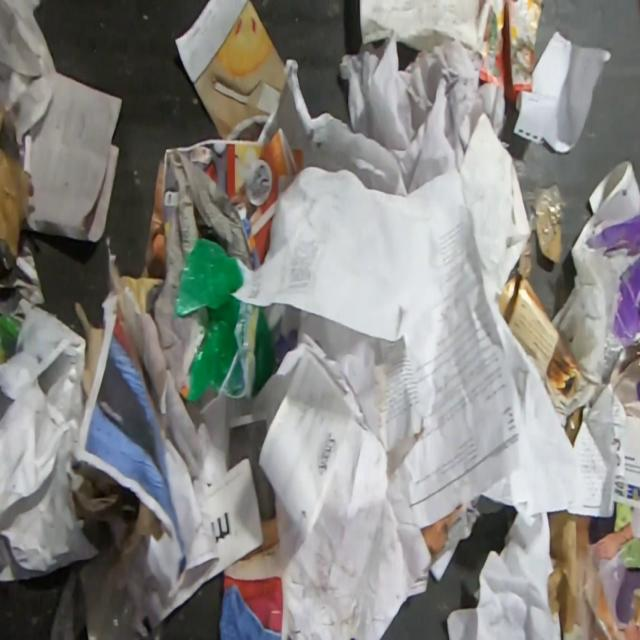cardboard: (498, 263, 582, 404), (546, 509, 592, 640), (0, 143, 31, 260), (608, 340, 640, 418), (546, 222, 562, 266)
soft_plastic: (171, 236, 274, 402), (518, 181, 568, 278)
